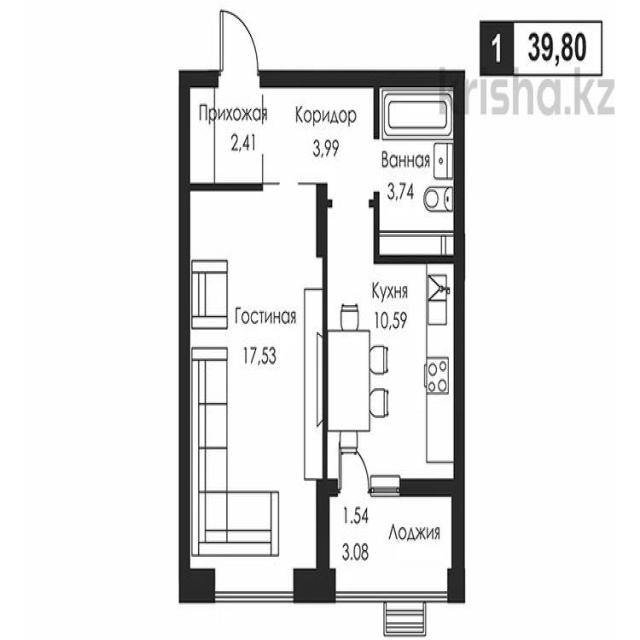balcony: (332, 495, 452, 591)
bathroom: (379, 87, 453, 253)
hallway: (191, 89, 373, 182)
kitchen: (328, 205, 453, 480)
living_room: (191, 189, 325, 568)
